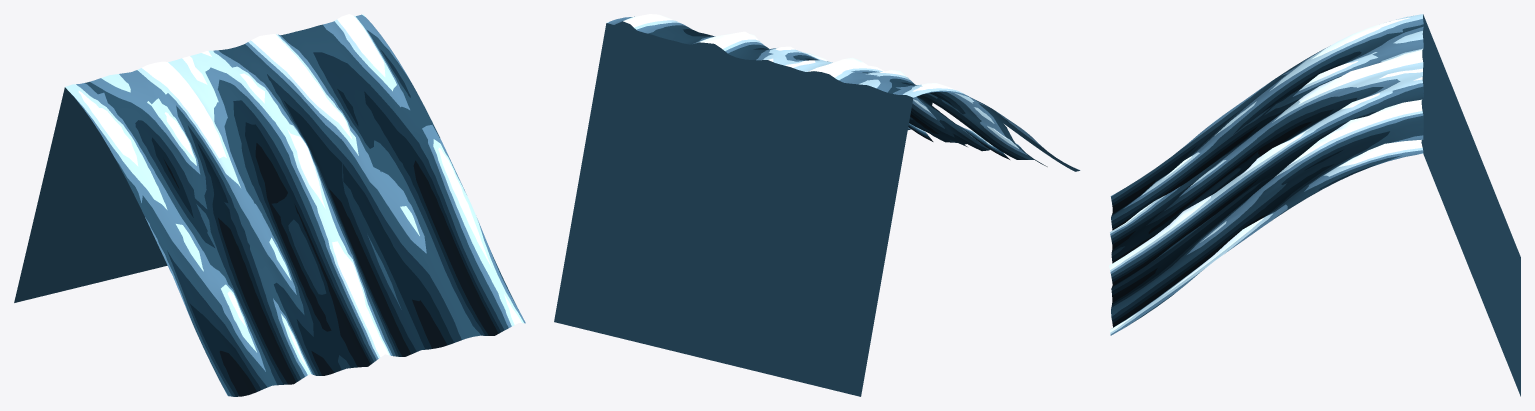
The model's file is torm_fall_tm.glb.
3 views of the same model, side by side, from view 1: azimuth 30°, elevation 25°; view 2: azimuth 150°, elevation 25°; view 3: azimuth 270°, elevation 25° (orthographic). The views are drawn at different scales.
Visible parts, largest first — view 1: torm_fall_tm; view 2: torm_fall_tm; view 3: torm_fall_tm.
Part boxes in pixels (x1,y1,x2,y2): torm_fall_tm: (14, 14, 525, 396); torm_fall_tm: (554, 14, 1080, 396); torm_fall_tm: (1109, 14, 1520, 396).
Size of the model in its own units: 24 by 19.83 by 29.89.
